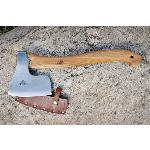Kapak: (3, 42, 149, 109)
